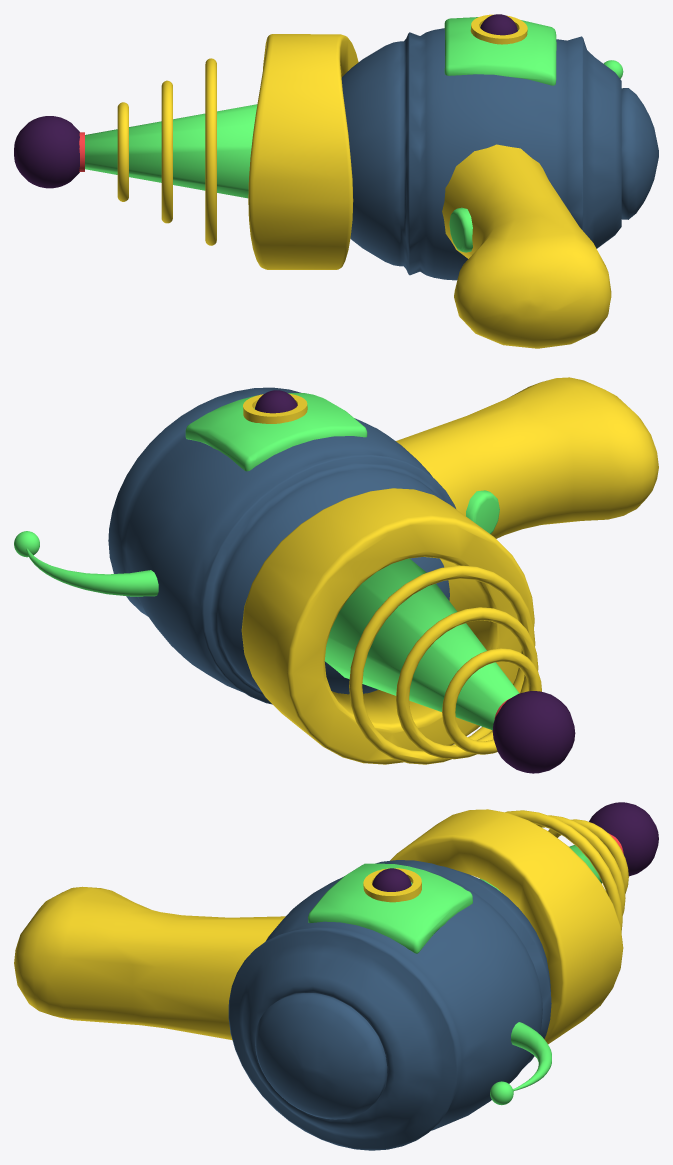
File: Toy113.fbx
The picture shows the model from 3 angles, top to bottom: view 1: azimuth 30°, elevation 25°; view 2: azimuth 150°, elevation 25°; view 3: azimuth 270°, elevation 25°; orthographic projection. The views are drawn at different scales.
Parts seen in each view (by area): view 1: Toy113; view 2: Toy113; view 3: Toy113.
Part boxes in pixels (<box>): Toy113: <box>14,14,658,348</box>; Toy113: <box>14,377,658,773</box>; Toy113: <box>14,802,658,1150</box>.
Bounding box in the file's own units: 0.2285 × 0.0994 × 0.227.
